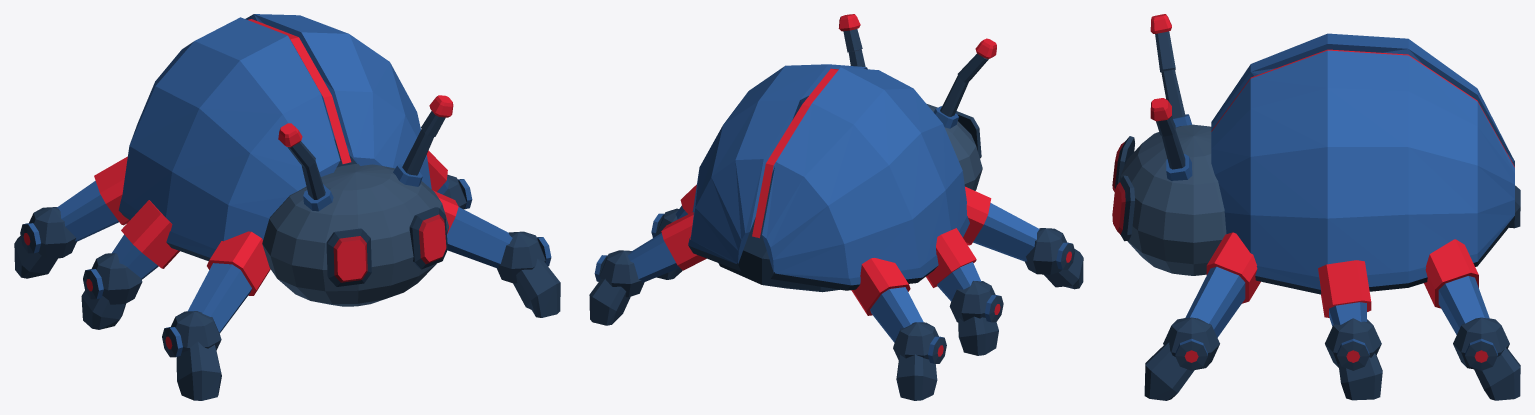
File: problem_bug_v01_bambu_80mm_rest.glb
3 views of the same model, side by side, from view 1: azimuth 30°, elevation 25°; view 2: azimuth 150°, elevation 25°; view 3: azimuth 270°, elevation 25° (orthographic). The views are drawn at different scales.
Visible parts, largest first — view 1: bug_body; view 2: bug_body; view 3: bug_body.
Boxes of the visible parts, x1,y1,x2,y2 form: bug_body: (14,14,560,400); bug_body: (589,14,1083,400); bug_body: (1112,14,1520,400).
Bounding box in the file's own units: 0.1232 × 0.08 × 0.1127.
1 material, 1 textured.
